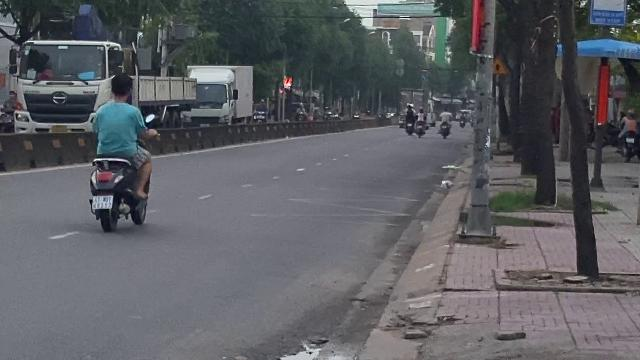licenseplate: (92, 196, 112, 210)
motorcyclist: (84, 71, 156, 233)
nohelmet: (108, 72, 134, 102)
